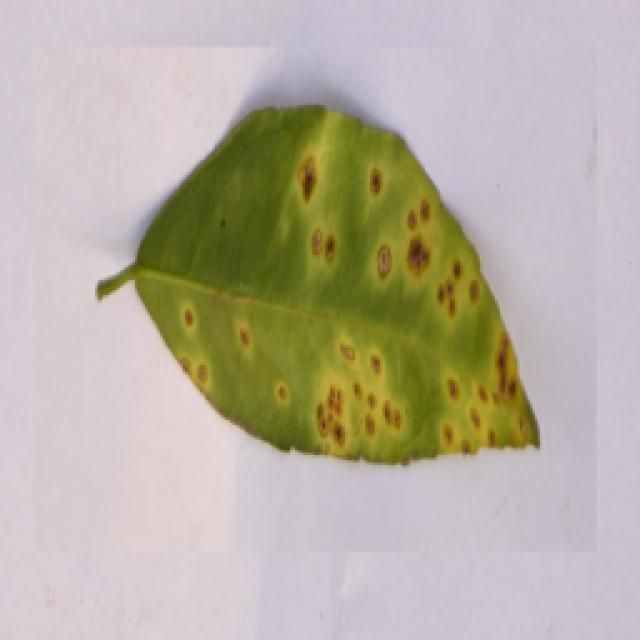canker: (119, 119, 574, 464)
